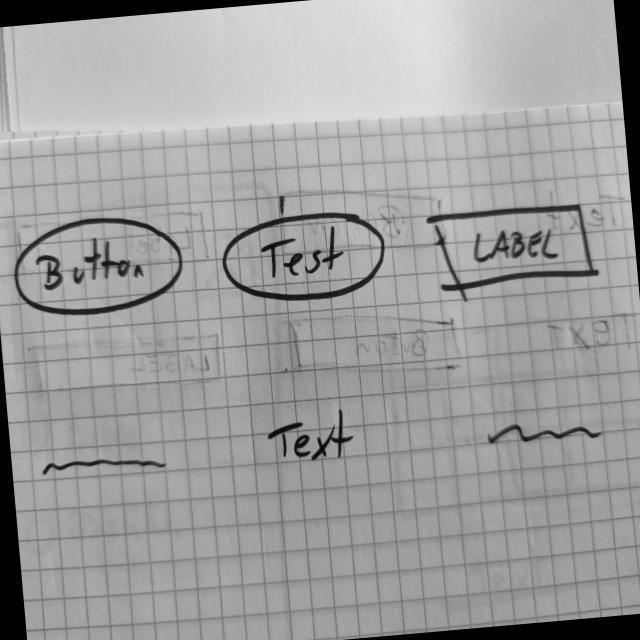button: (11, 208, 189, 325), (220, 206, 391, 312), (426, 196, 600, 296)
label: (263, 406, 360, 470)
text: (485, 414, 605, 457), (42, 450, 169, 488)
